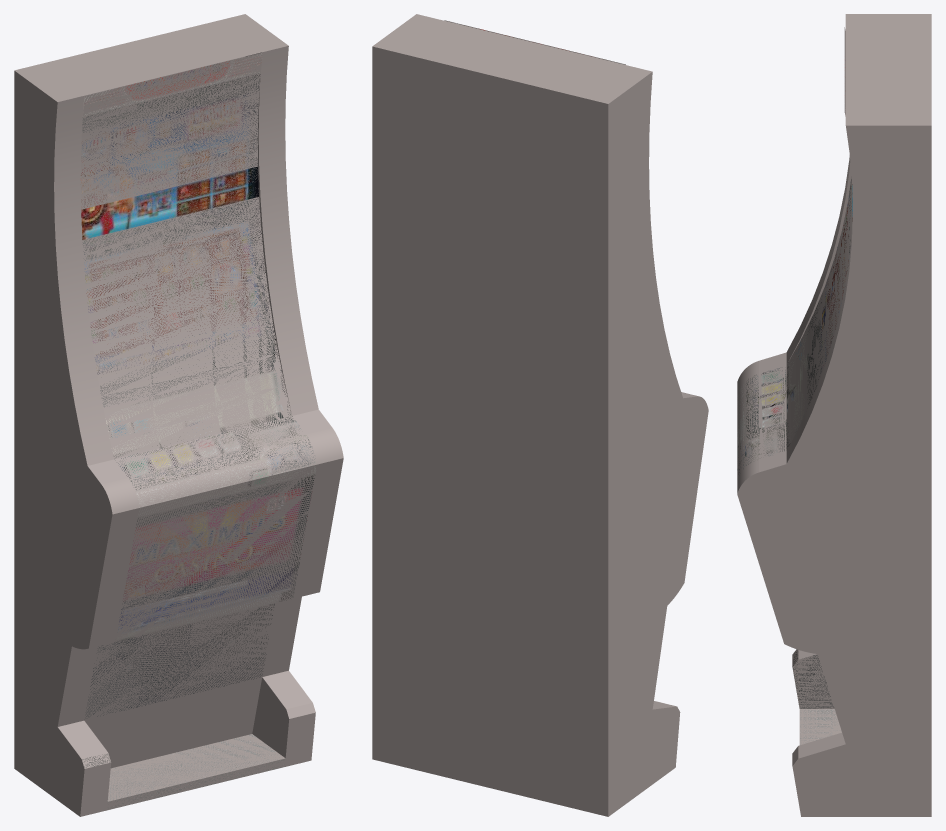
3 views of the same model, side by side, from view 1: azimuth 30°, elevation 25°; view 2: azimuth 150°, elevation 25°; view 3: azimuth 270°, elevation 25° (orthographic). The views are drawn at different scales.
Parts seen in each view (by area): view 1: SketchUp_1; view 2: SketchUp_1; view 3: SketchUp_1.
Boxes of the visible parts, x1,y1,x2,y2 form: SketchUp_1: [14, 14, 343, 816]; SketchUp_1: [372, 14, 708, 816]; SketchUp_1: [737, 14, 931, 816].
Size of the model in its own units: 2.67 by 7.71 by 1.97.
Materials: 53 (53 with a texture image).
